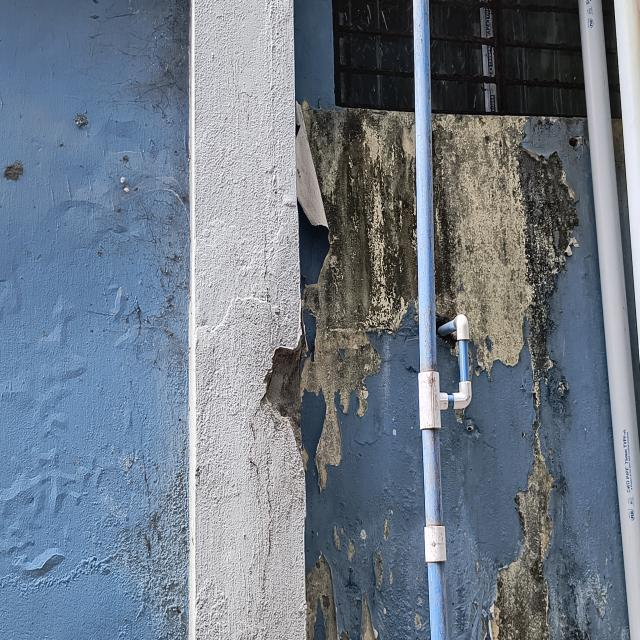peeling: (0, 288, 188, 638), (301, 101, 418, 490), (432, 115, 578, 379), (495, 341, 610, 640), (306, 511, 429, 640)
spalling: (261, 335, 306, 449)
